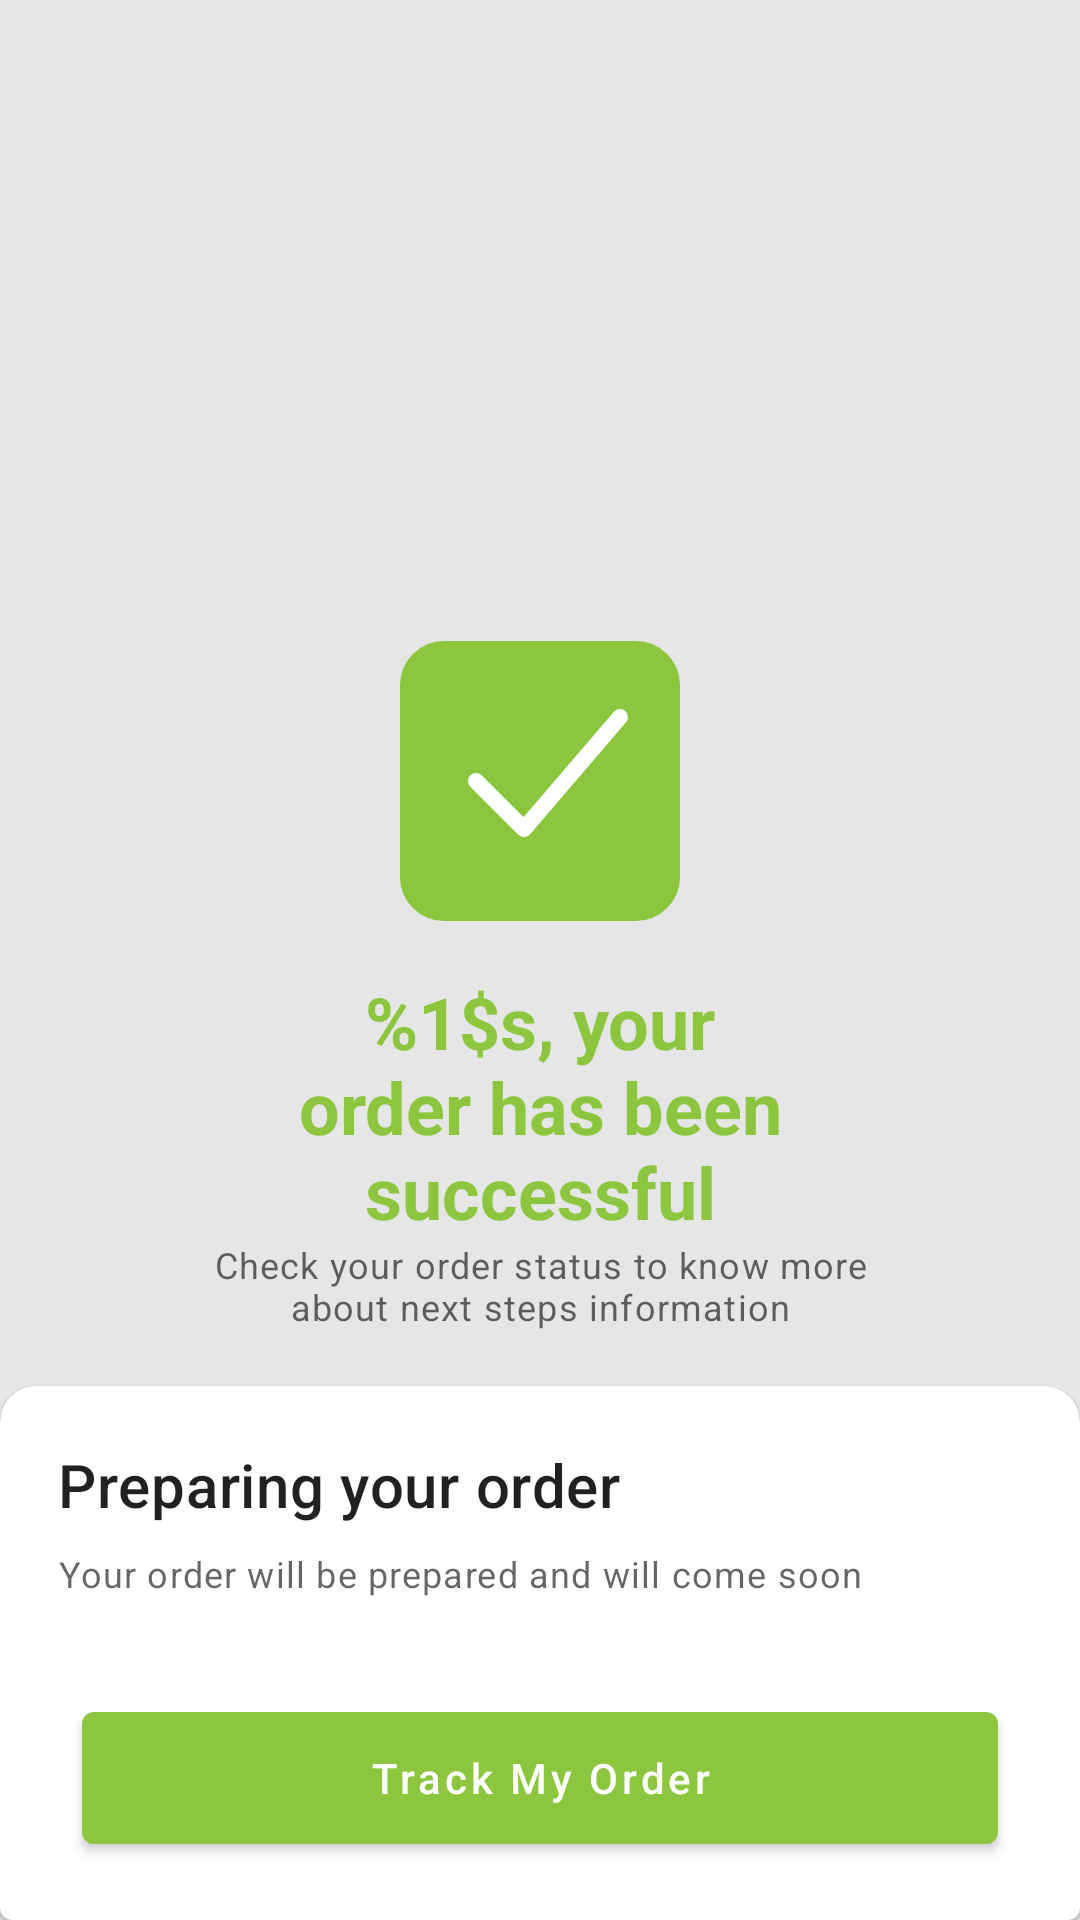

Where icons sit on this 1080px x 1920px app screen, as (x1, y1, x2, y2):
check square: (400, 641, 680, 921)
